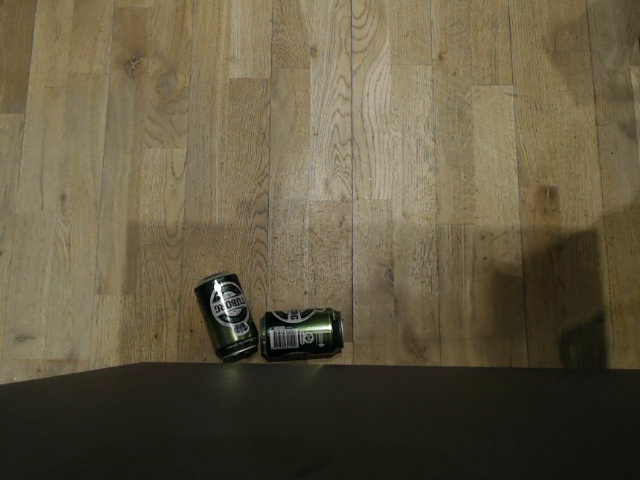beer: (195, 269, 258, 362), (259, 306, 344, 360)
